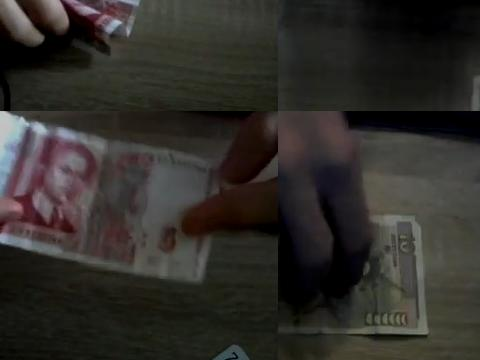10leva: (278, 214, 429, 338)
5leva: (9, 128, 101, 235), (57, 0, 142, 53)
